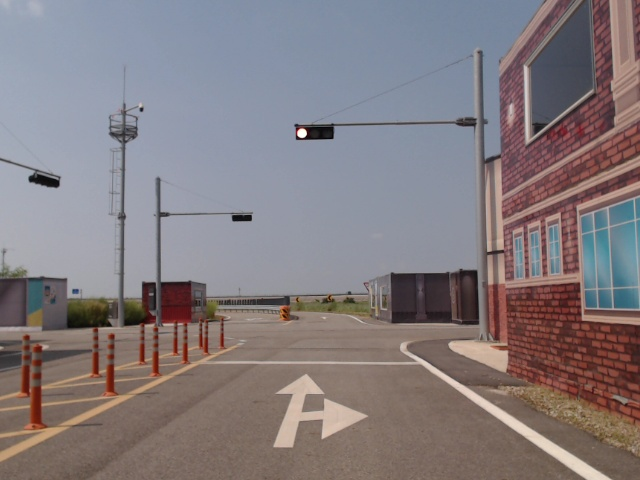red_3: (297, 125, 333, 139)
